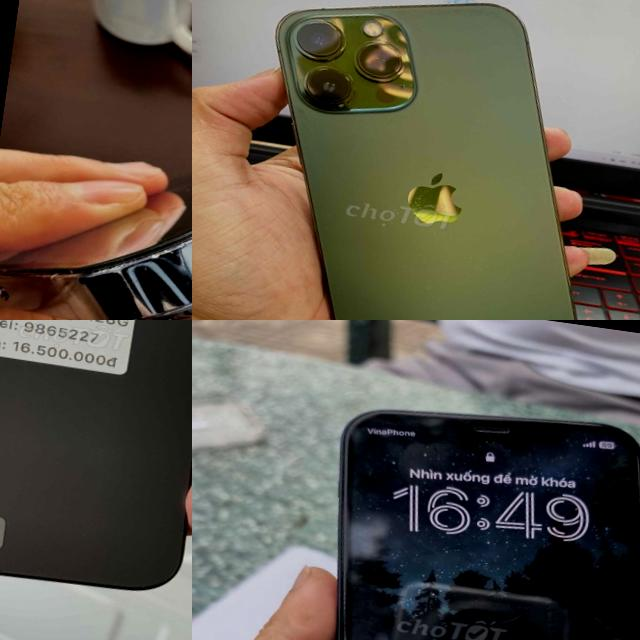gen_12_13: (214, 0, 640, 320), (270, 381, 640, 640), (0, 40, 192, 320)
gen_14: (0, 320, 192, 612)
